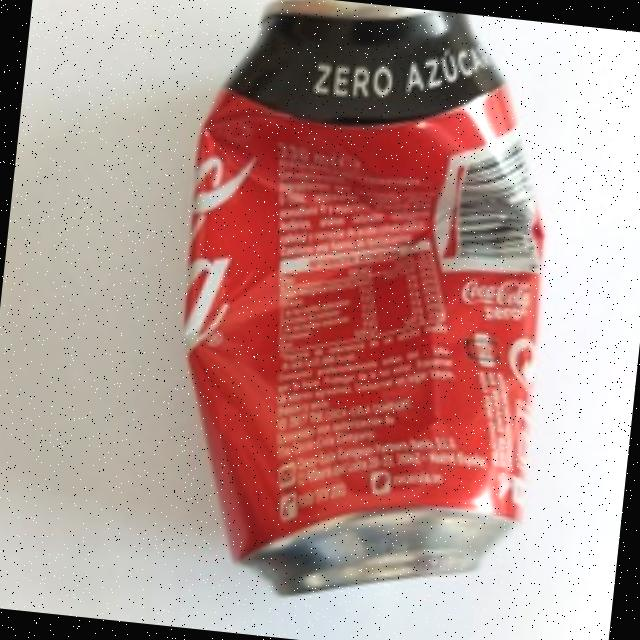Metal: (147, 0, 568, 621)
